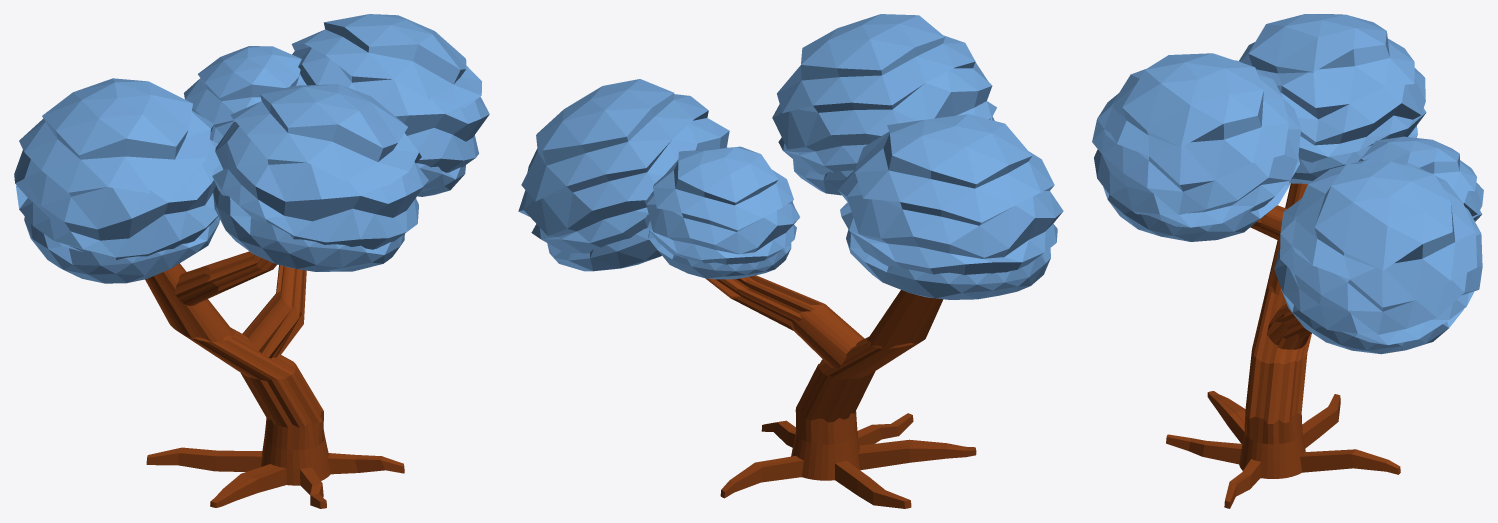
Rendered from MagicTree.fbx.
The picture shows the model from 3 angles, left to right: view 1: azimuth 30°, elevation 25°; view 2: azimuth 150°, elevation 25°; view 3: azimuth 270°, elevation 25°; orthographic projection. The views are drawn at different scales.
Parts seen in each view (by area): view 1: Icosphere; view 2: Icosphere; view 3: Icosphere.
Part boxes in pixels (x1,y1,x2,y2): Icosphere: [14, 14, 489, 508]; Icosphere: [518, 14, 1063, 508]; Icosphere: [1092, 14, 1483, 508].
Size of the model in its own units: 2073 by 1715 by 1545.
